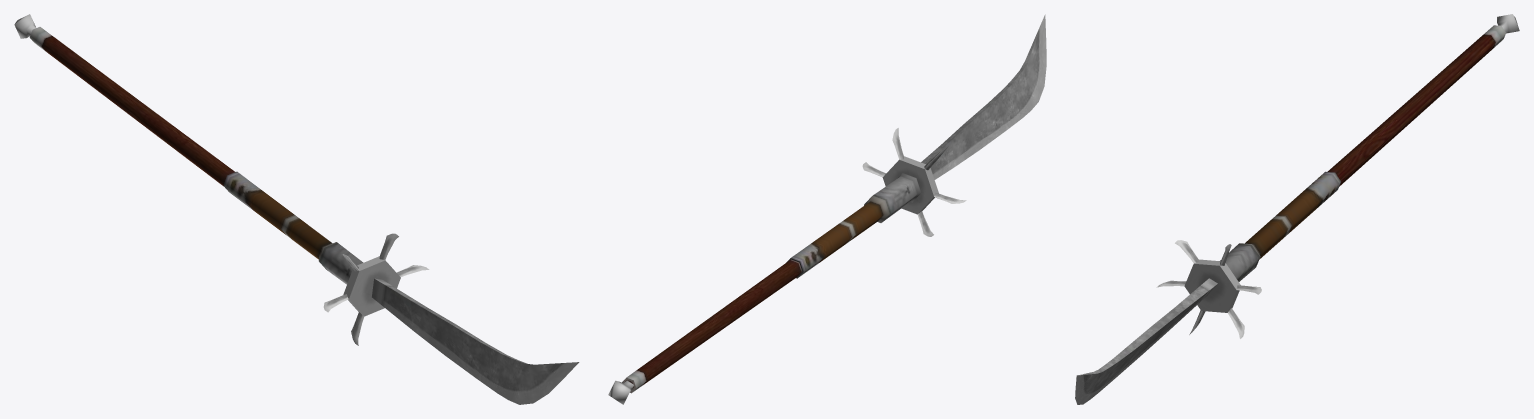
The model's file is weapon-ironweapons.glb.
The picture shows the model from 3 angles, left to right: view 1: azimuth 30°, elevation 25°; view 2: azimuth 150°, elevation 25°; view 3: azimuth 330°, elevation 25°; orthographic projection. The views are drawn at different scales.
Bounding box in the file's own units: 0.3391 × 0.3182 × 2.88.
1 material, 1 textured.
